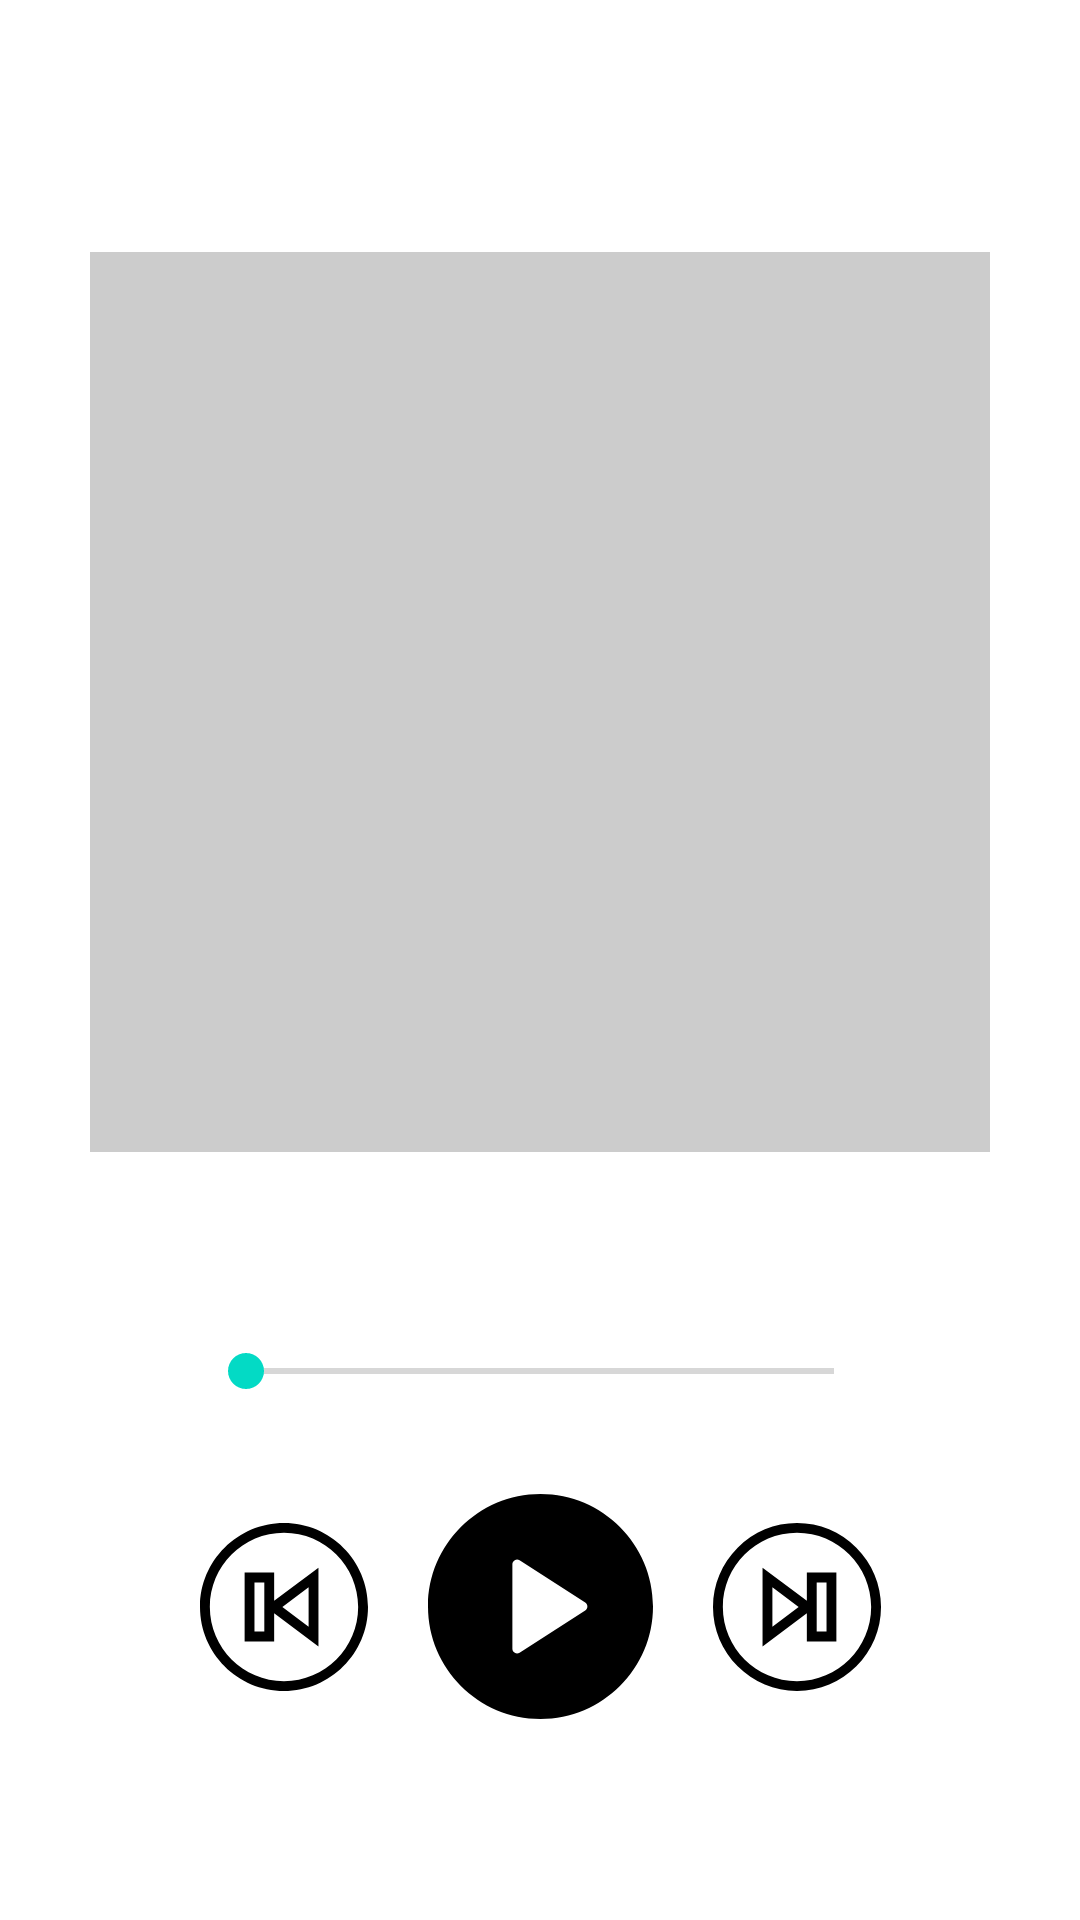

Named icons in this screenshot (1080w x 1920h) and their bounding boxes, box(x1, y1, x2, y2):
next: box(713, 1523, 881, 1691)
play: box(428, 1494, 653, 1719)
previous: box(200, 1523, 368, 1691)
